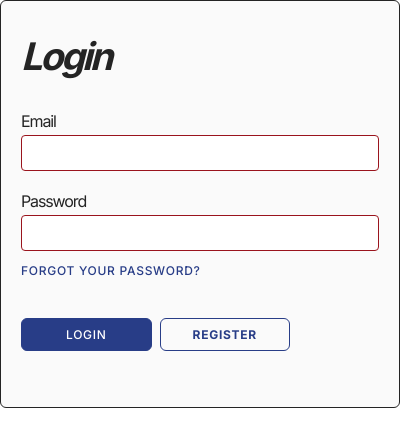
Scenario: LoginForm › Login Functionality › displays success message on successful login
The image size is (417, 438).
Type "test@example.com" into the field with test id "email-input" at (200, 153), box [21,135,379,171]
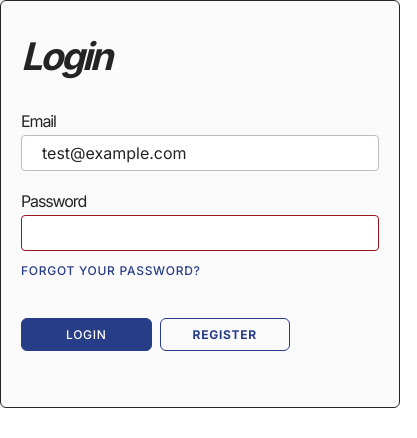
Type "password" into the password field with test id "password-input" at (200, 233), box [21,215,379,251]
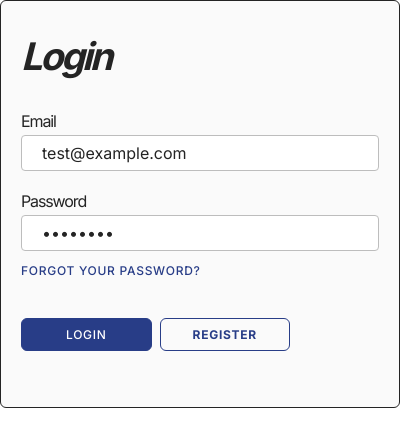
Click the button with test id "login-button" at (86, 334), box [21,318,152,351]
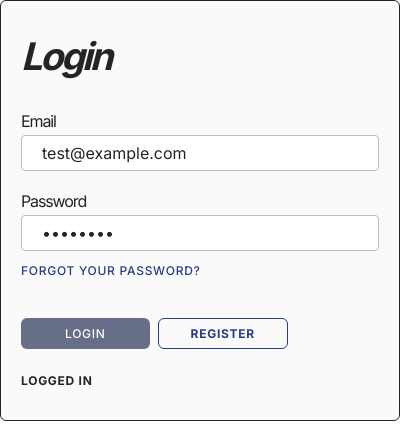
Check: the heading "Logged In" is shown, box [21,373,92,388]
